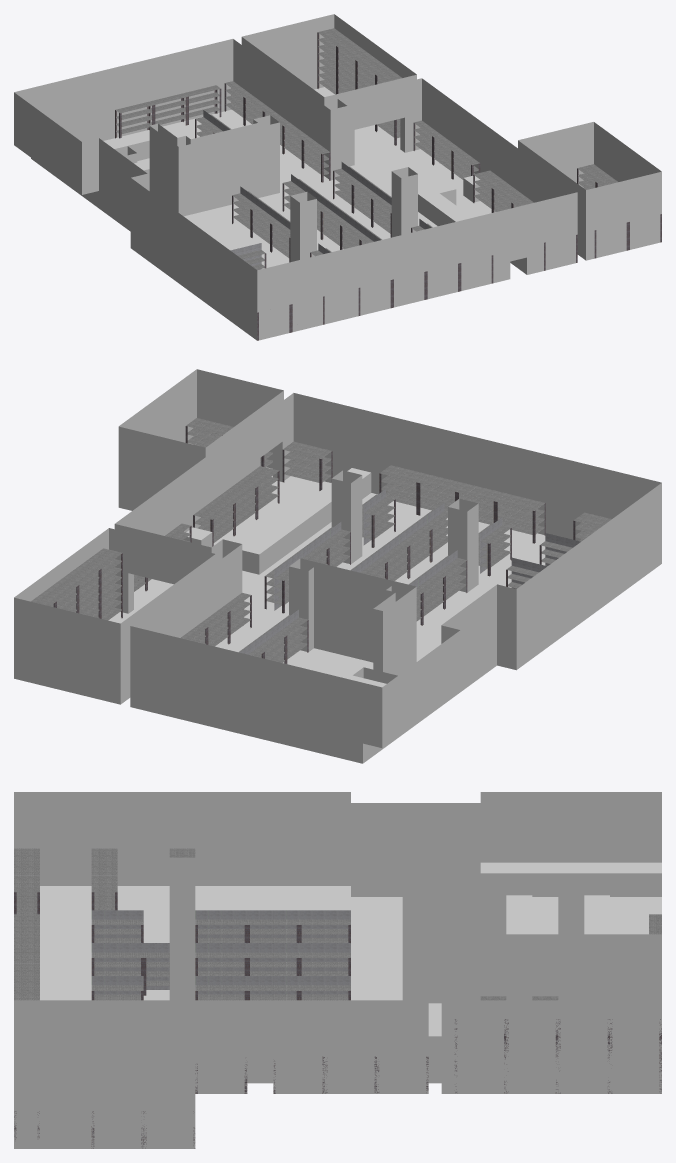
File: Supermarket.fbx
3 views of the same model, one above another, from view 1: azimuth 30°, elevation 25°; view 2: azimuth 150°, elevation 25°; view 3: azimuth 270°, elevation 25° (orthographic). The views are drawn at different scales.
Visible parts, largest first — view 1: Terrain, BigShelf.002, BigShelf.004, BigWideShelf2.016, BigWideShelf.009, BigWideShelf.017, BigWideShelf2.009, BigWideShelf.010, BigShelf.003, BigWideShelf2.010, BigWideShelf2.019, BigWideShelf2.018 (+16 smaller); view 2: Terrain, BigWideShelf.020, BigWideShelf.007, BigWideShelf.016, BigWideShelf2.004, BigWideShelf2.011, BigWideShelf.015, BigWideShelf.017, BigWideShelf.018, BigWideShelf2.008, BigWideShelf.019, BigWideShelf.011 (+18 smaller); view 3: Terrain, BigWideShelf2.004, BigWideShelf2.006, BigWideShelf2.007, BigWideShelf2.009, BigWideShelf2.017, BigWideShelf2.018, BigWideShelf2.005, BigWideShelf2.010, BigWideShelf2.011, BigWideShelf2.012, BigWideShelf2.019 (+10 smaller).
Part boxes in pixels (x1,y1,x2,y2): Terrain: (14, 14, 661, 340); BigShelf.002: (115, 101, 153, 138); BigShelf.004: (183, 85, 221, 124); BigWideShelf2.016: (333, 162, 368, 212); BigWideShelf.009: (317, 28, 353, 74); BigWideShelf.017: (473, 170, 508, 212); BigWideShelf2.009: (321, 203, 357, 249); BigWideShelf.010: (337, 42, 372, 88); BigShelf.003: (149, 93, 187, 125); BigWideShelf2.010: (232, 186, 267, 237); BigWideShelf2.019: (352, 176, 388, 226); BigWideShelf2.018: (251, 201, 287, 251); Terrain: (14, 369, 661, 763); BigWideShelf.020: (282, 441, 332, 490); BigWideShelf.007: (495, 493, 545, 543); BigWideShelf.016: (379, 465, 428, 514); BigWideShelf2.004: (478, 517, 511, 576); BigWideShelf2.011: (362, 489, 395, 547); BigWideShelf.015: (418, 474, 467, 515); BigWideShelf.017: (193, 499, 234, 546); BigWideShelf.018: (215, 482, 257, 535); BigWideShelf2.008: (390, 519, 431, 577); BigWideShelf.019: (238, 466, 279, 518); BigWideShelf.011: (59, 564, 100, 613); Terrain: (14, 792, 661, 1148); BigWideShelf2.004: (91, 910, 143, 942); BigWideShelf2.006: (195, 910, 247, 942); BigWideShelf2.007: (91, 943, 143, 975); BigWideShelf2.009: (195, 943, 247, 975); BigWideShelf2.017: (247, 943, 298, 975); BigWideShelf2.018: (247, 910, 298, 942); BigWideShelf2.005: (299, 943, 350, 975); BigWideShelf2.010: (299, 910, 350, 942); BigWideShelf2.011: (91, 976, 143, 1000); BigWideShelf2.012: (195, 976, 247, 1000); BigWideShelf2.019: (247, 976, 298, 1000).
Size of what is drawn, in the model's own units: 2400 by 400 by 2500.
